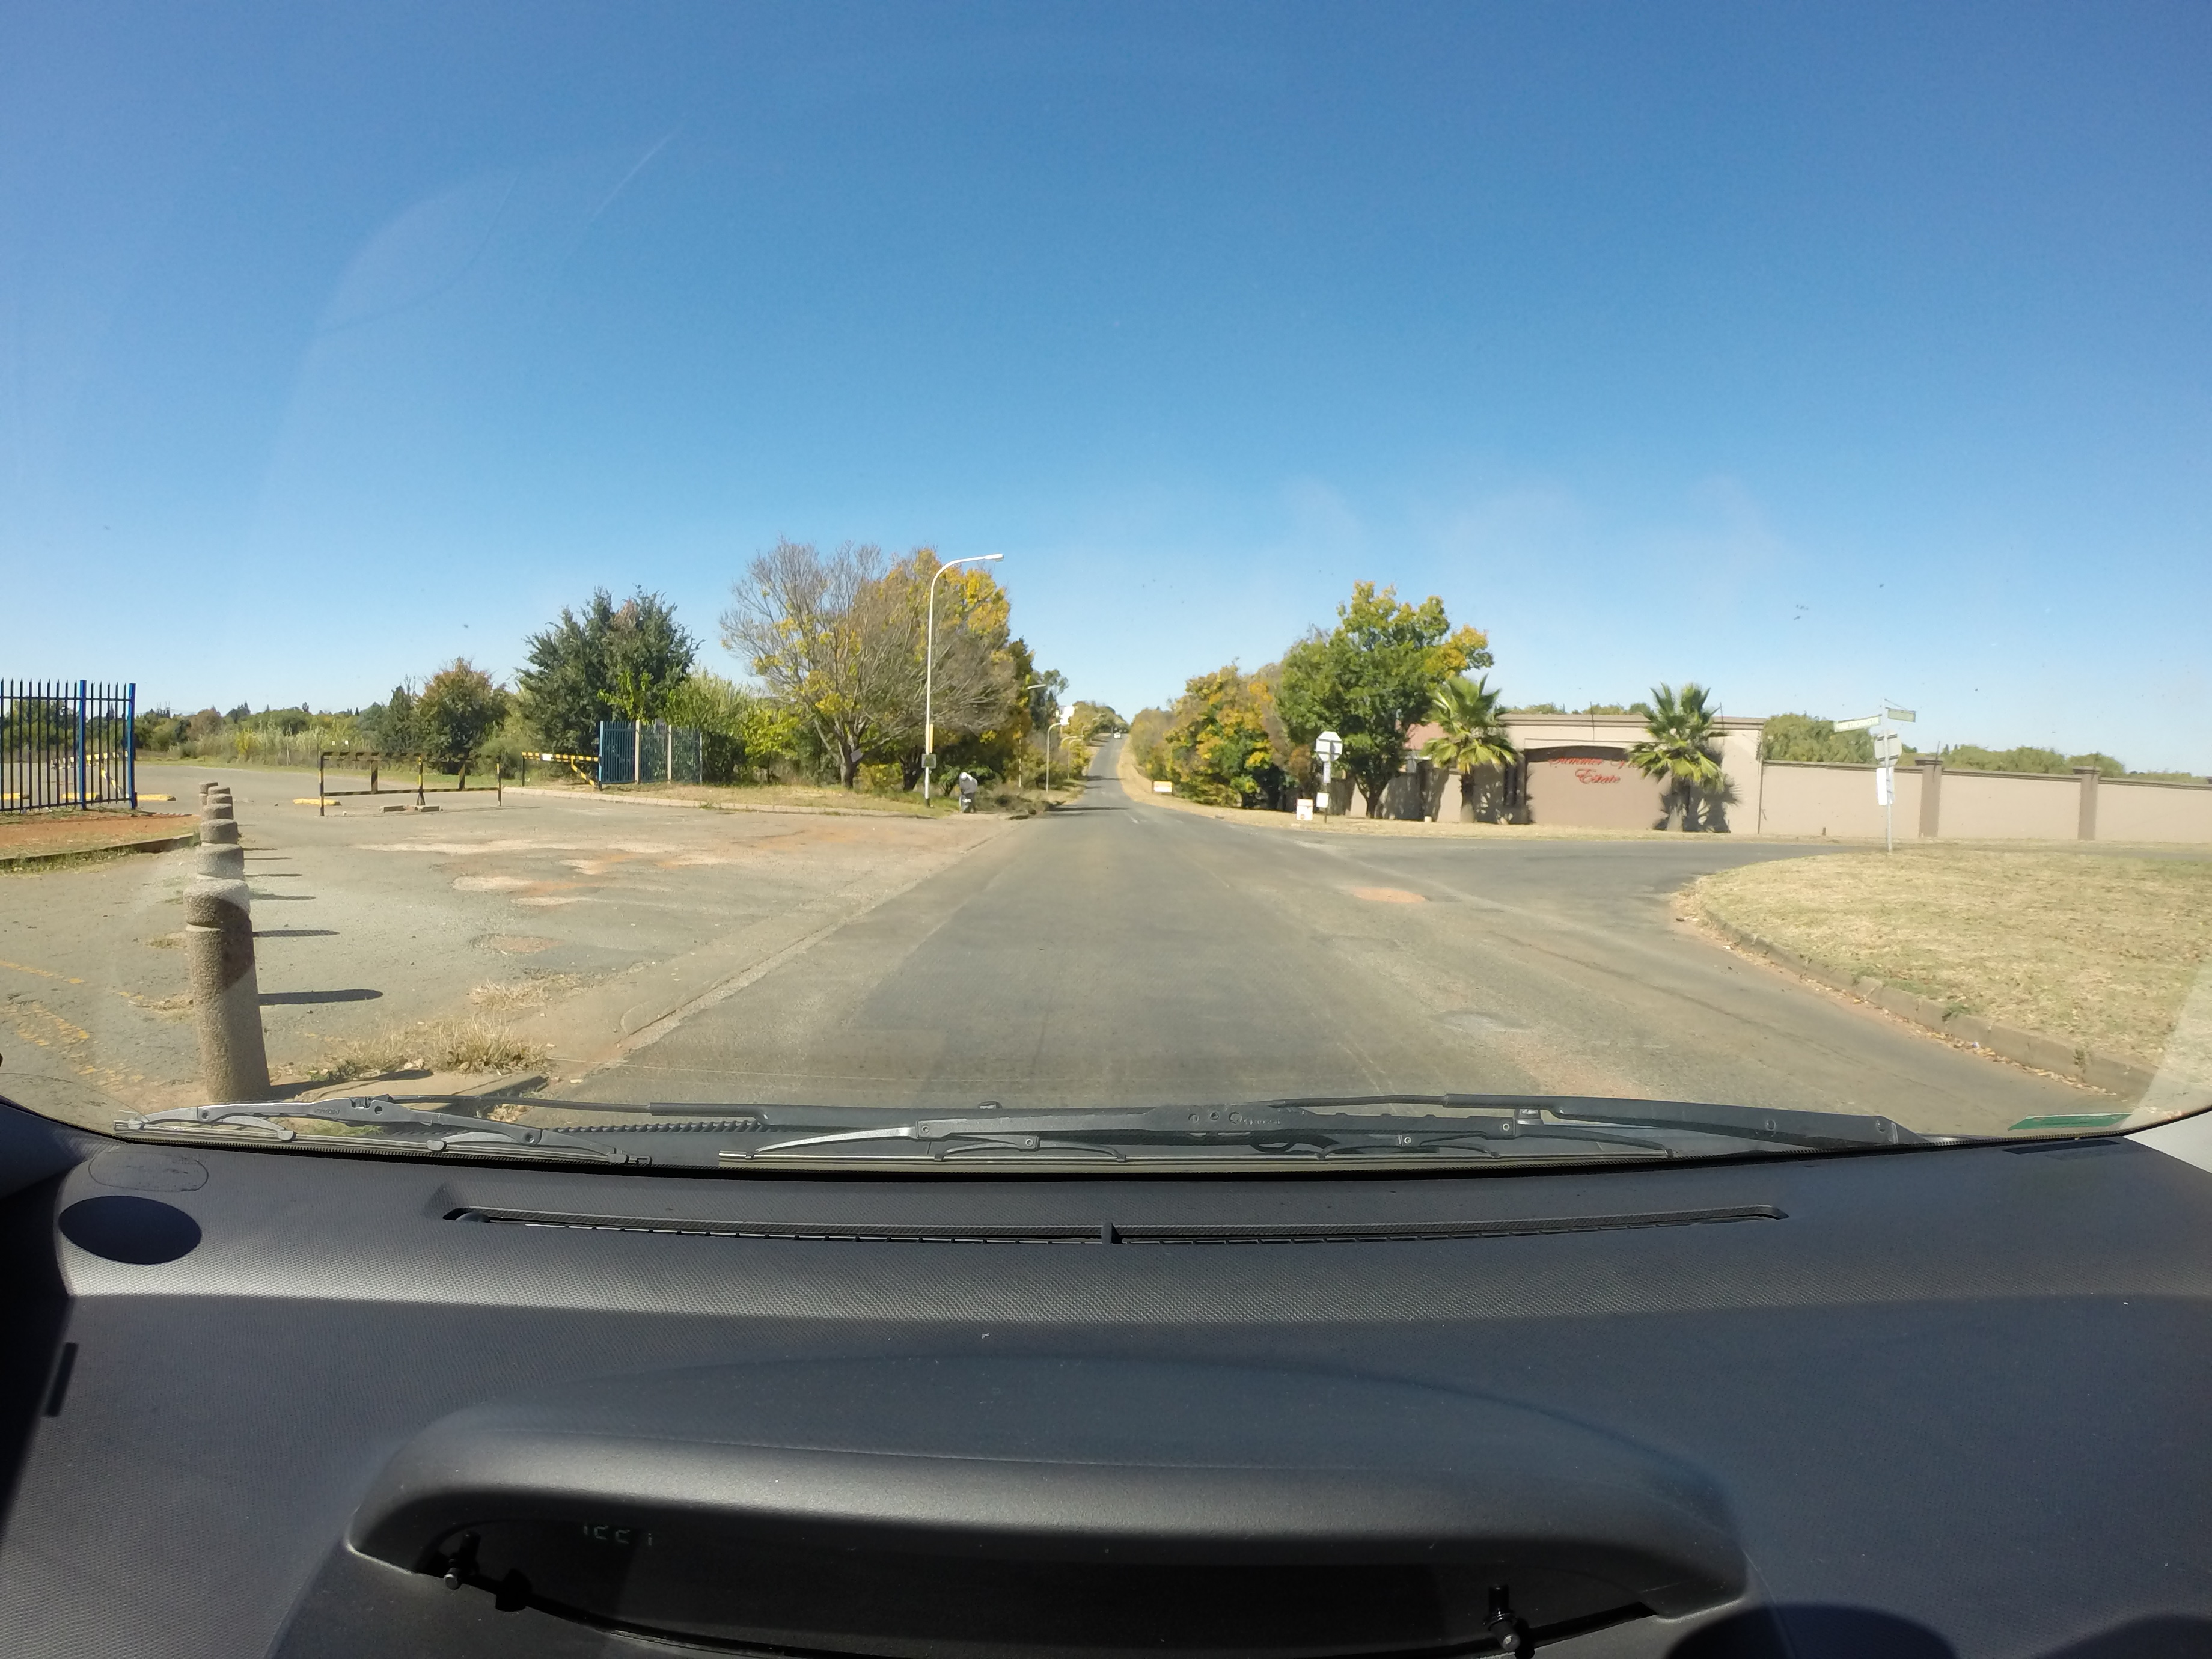pothole: (1343, 875, 1449, 915)
